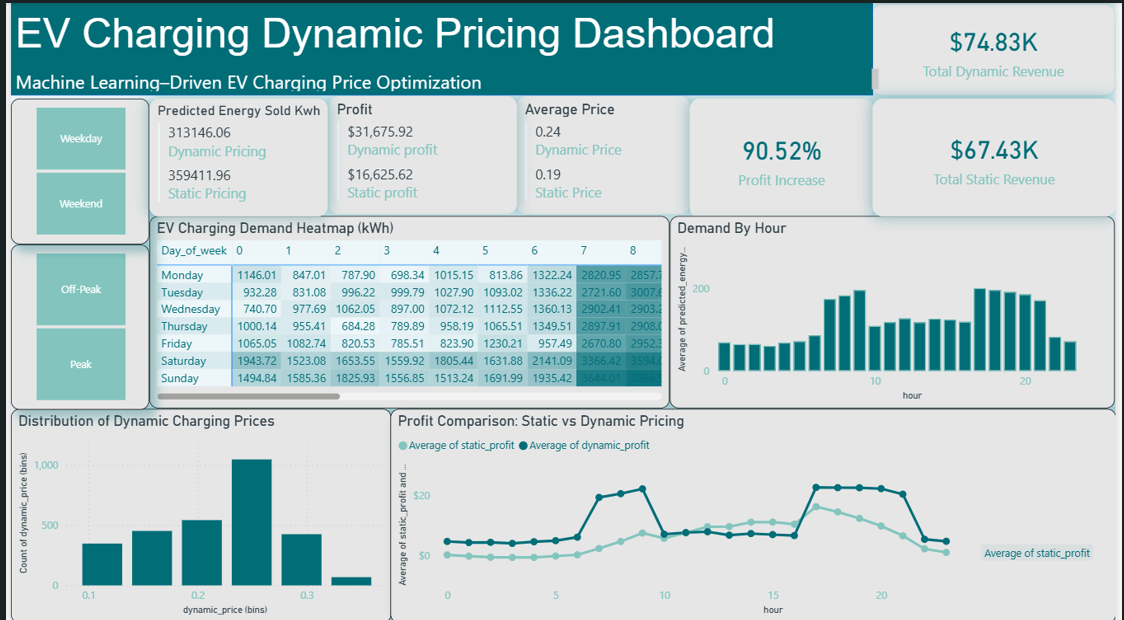

This screenshot's page, from the dashboard's own definition file:
{"tool":"powerbi","page":{"name":"Page 1","canvas":[1280,720],"ordinal":0},"visuals":[{"type":"multiRowCard","title":"Average Price","fields":{"Values":["Avg(public pricing_comparison.dynamic_price)","Avg(public pricing_comparison.static_retail_price)"]},"box":[585.3,108.2,200.4,136.8],"z":0},{"type":"card","fields":{"Values":["Measure Table.Profit Increase"]},"box":[785.8,111.3,213.1,138.4],"z":1000},{"type":"multiRowCard","title":"Profit","fields":{"Values":["Measure Table.Total dynamic profit","Sum(public pricing_comparison.static_profit)"]},"box":[367.4,108.2,217.9,136.8],"z":2000},{"type":"pivotTable","title":"EV Charging Demand Heatmap (kWh)","fields":{"Rows":["public pricing_comparison.day_of_week"],"Columns":["public pricing_comparison.hour"],"Values":["Sum(public pricing_comparison.predicted_energy_sold_kwh)"]},"box":[160.7,248.1,602.8,222.7],"z":3000},{"type":"columnChart","title":"Demand By Hour","fields":{"Category":["public pricing_comparison.hour"],"Y":["Avg(public pricing_comparison.predicted_energy_sold_kwh)"]},"box":[763.5,248.1,515.4,222.7],"z":4000},{"type":"clusteredColumnChart","title":"Distribution of Dynamic Charging Prices","fields":{"Category":["public pricing_comparison.dynamic_price (bins)"],"Y":["CountNonNull(public pricing_comparison.dynamic_price (bins))"]},"box":[0,471.2,440.4,247.7],"z":5000},{"type":"lineChart","title":"Profit Comparison: Static vs Dynamic Pricing","fields":{"Y":["Avg(public pricing_comparison.static_profit)","Avg(public pricing_comparison.dynamic_profit)"],"Category":["public pricing_comparison.hour"]},"box":[440.4,471.2,840.4,247.7],"z":6000},{"type":"slicer","fields":{"Values":["public pricing_comparison.Time_Category"]},"box":[0,280.1,160.3,191.1],"z":7000},{"type":"card","fields":{"Values":["Measure Table.Total Dynamic Revenue"]},"box":[998.9,3.2,279.9,105],"z":8000},{"type":"card","fields":{"Values":["Measure Table.Total Static Revenue"]},"box":[998.9,111.3,281.5,136.8],"z":9000},{"type":"slicer","fields":{"Values":["public pricing_comparison.is_weekend"]},"box":[0,111.7,160.3,168.4],"z":10000},{"type":"textbox","box":[11.1,14.3,976.6,82.7],"z":11000},{"type":"shape","box":[0,0,998.9,108.2],"z":12000},{"type":"textbox","box":[0,3.2,998.9,68.4],"z":13000},{"type":"textbox","box":[0,71.6,1010,36.6],"z":14000},{"type":"multiRowCard","title":"Predicted Energy Sold Kwh","fields":{"Values":["Sum(public pricing_comparison.Adjusted_demand_kwh)","Sum(public pricing_comparison.predicted_energy_sold_kwh)"]},"box":[160.7,111.3,206.8,136.8],"z":15000}]}

Visuals, with their boxes in screenshot pixels (x1, y1, x2, y2), scaled from the page's 1280x720 canvas onto the 1124x620 screenshot:
"Average Price" multiRowCard: select_region(514, 93, 690, 211)
card - Measure Table.Profit Increase: select_region(690, 96, 877, 215)
"Profit" multiRowCard: select_region(323, 93, 514, 211)
"EV Charging Demand Heatmap (kWh)" pivotTable: select_region(141, 214, 670, 405)
"Demand By Hour" columnChart: select_region(670, 214, 1123, 405)
"Distribution of Dynamic Charging Prices" clusteredColumnChart: select_region(0, 406, 387, 619)
"Profit Comparison: Static vs Dynamic Pricing" lineChart: select_region(387, 406, 1123, 619)
slicer - public pricing_comparison.Time_Category: select_region(0, 241, 141, 406)
card - Measure Table.Total Dynamic Revenue: select_region(877, 3, 1123, 93)
card - Measure Table.Total Static Revenue: select_region(877, 96, 1123, 214)
slicer - public pricing_comparison.is_weekend: select_region(0, 96, 141, 241)
textbox: select_region(10, 12, 867, 84)
shape: select_region(0, 0, 877, 93)
textbox: select_region(0, 3, 877, 62)
textbox: select_region(0, 62, 887, 93)
"Predicted Energy Sold Kwh" multiRowCard: select_region(141, 96, 323, 214)
